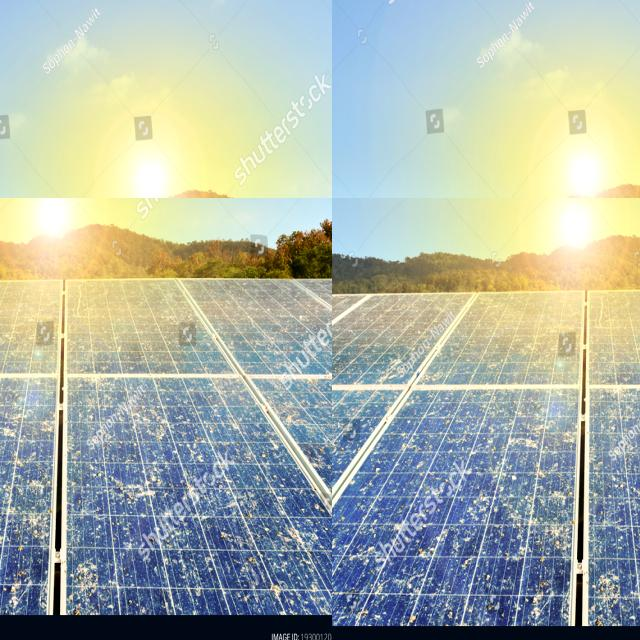bird: (592, 570, 634, 625), (373, 340, 416, 388), (515, 576, 557, 625), (546, 489, 578, 551), (332, 404, 367, 454), (413, 526, 438, 576), (510, 434, 542, 472), (457, 540, 482, 572), (332, 523, 345, 558), (332, 525, 340, 572)
panel: (256, 163, 330, 198), (92, 173, 158, 198), (198, 170, 254, 198), (169, 159, 202, 198), (0, 182, 70, 198), (0, 198, 56, 213), (0, 198, 27, 229), (272, 140, 305, 160), (69, 169, 89, 198), (9, 198, 50, 209), (0, 198, 31, 212), (0, 198, 25, 212), (0, 198, 36, 206), (31, 198, 63, 205), (0, 198, 18, 207), (45, 198, 75, 203), (0, 198, 12, 207)
